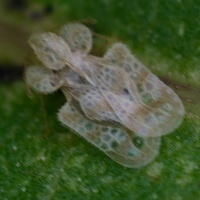insect: (26, 23, 184, 167)
